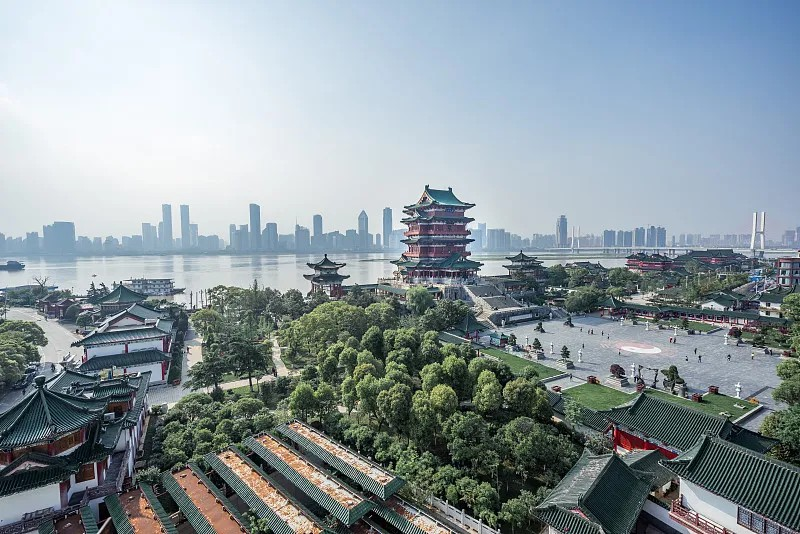Teng: (390, 184, 485, 280)
